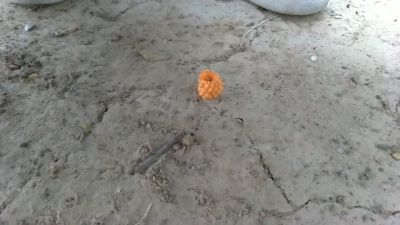eggs: (197, 67, 223, 100)
